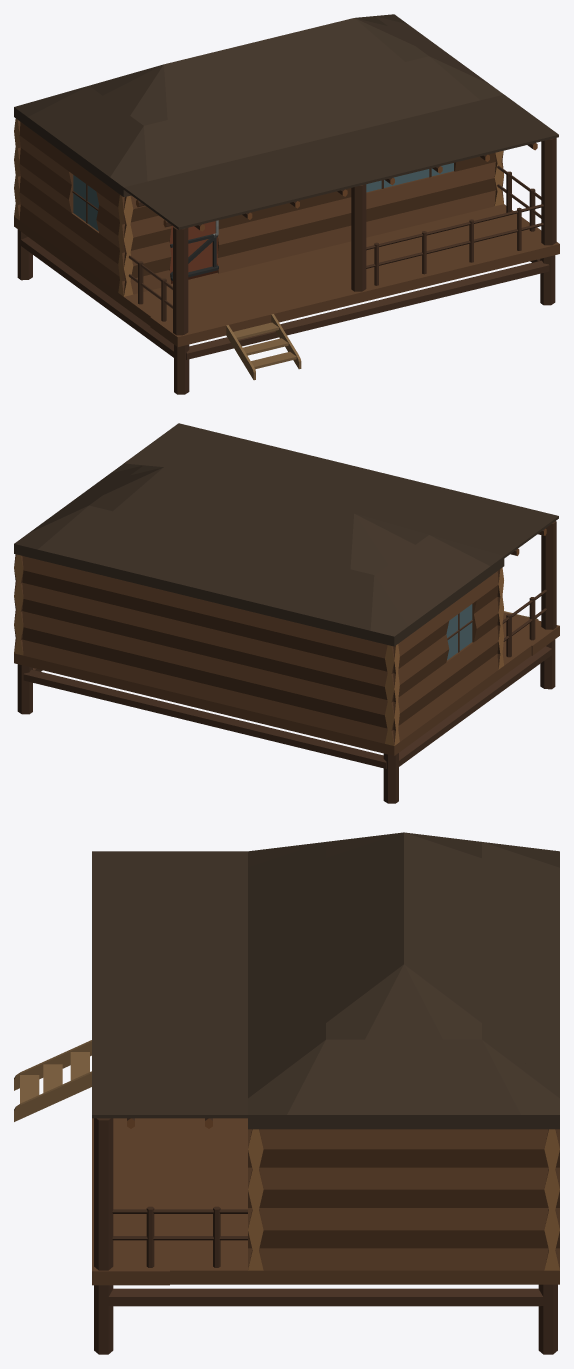
Rendered from casa 1.fbx.
3 views of the same model, one above another, from view 1: azimuth 30°, elevation 25°; view 2: azimuth 150°, elevation 25°; view 3: azimuth 270°, elevation 25° (orthographic). The views are drawn at different scales.
Parts seen in each view (by area): view 1: Cube.006; view 2: Cube.006; view 3: Cube.006.
Boxes of the visible parts, x1,y1,x2,y2 form: Cube.006: (14,14,559,394); Cube.006: (14,423,559,803); Cube.006: (14,832,559,1354).
Size of the model in its own units: 1608 by 920 by 1400.
